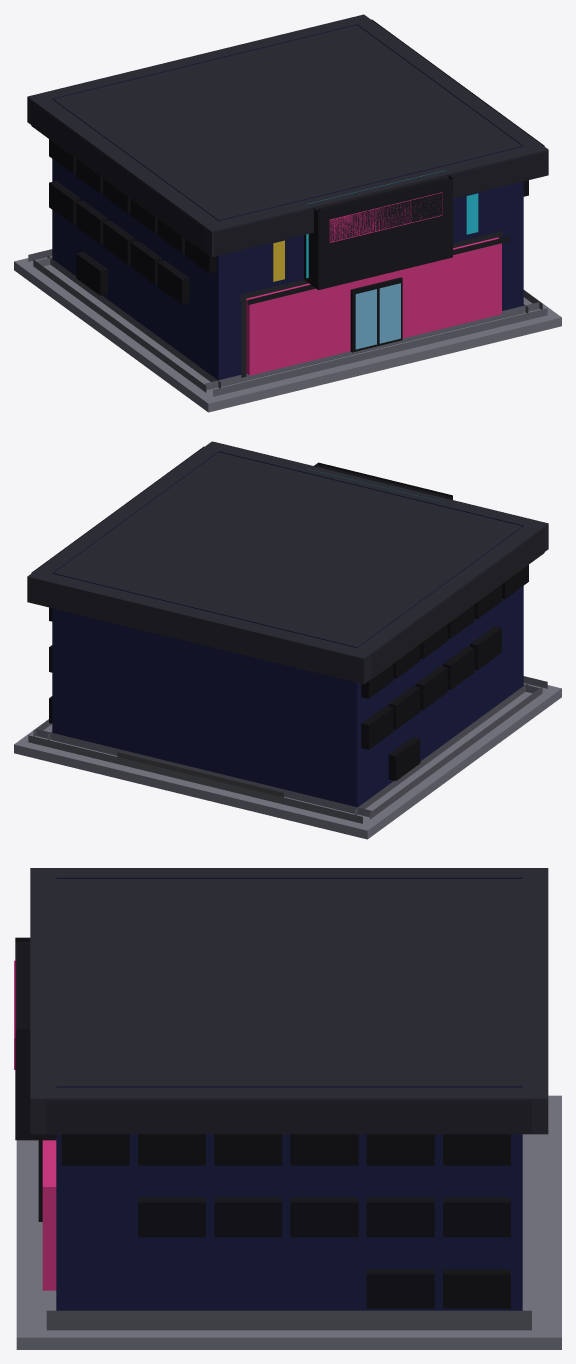
Rendered from LivingCassetteSil.fbx.
The picture shows the model from 3 angles, top to bottom: view 1: azimuth 30°, elevation 25°; view 2: azimuth 150°, elevation 25°; view 3: azimuth 270°, elevation 25°; orthographic projection. The views are drawn at different scales.
Parts seen in each view (by area): view 1: LC_S_All; view 2: LC_S_All; view 3: LC_S_All.
Part boxes in pixels (box(x1,y1,x2,y2)): LC_S_All: box(14, 14, 561, 412); LC_S_All: box(14, 441, 561, 839); LC_S_All: box(14, 868, 561, 1349).
Bounding box in the file's own units: 42.04 × 20 × 40.24.
